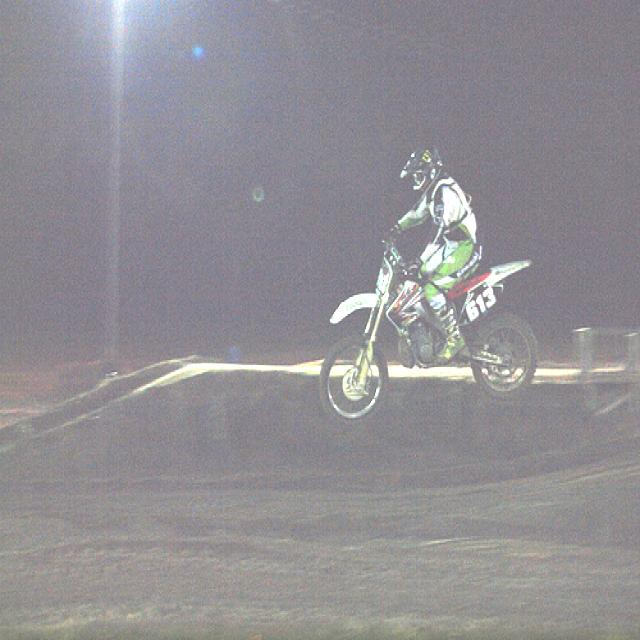Motorbike: (325, 217, 538, 414)
